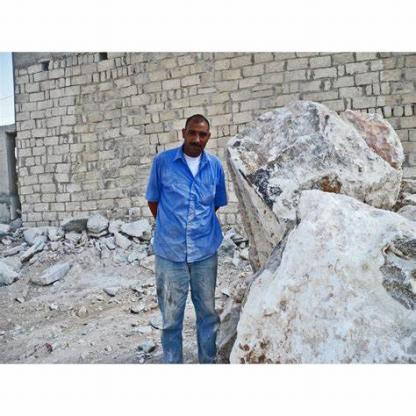person: (137, 104, 241, 368)
